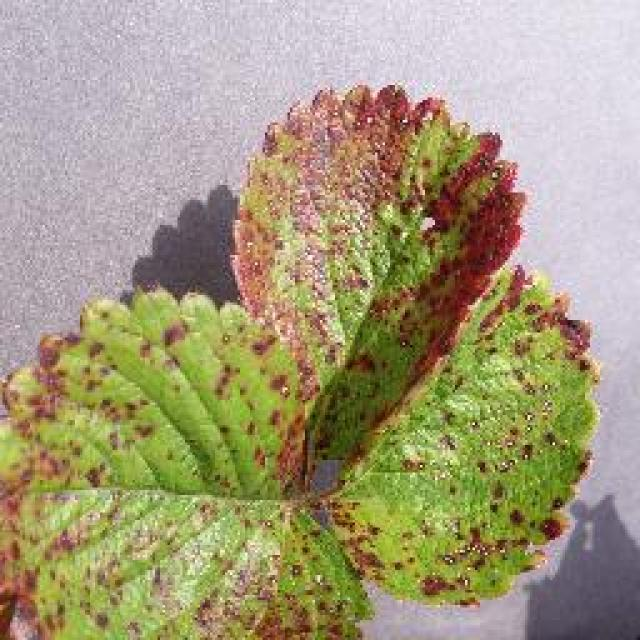Strawberry leaf scorch: (12, 115, 515, 612)
